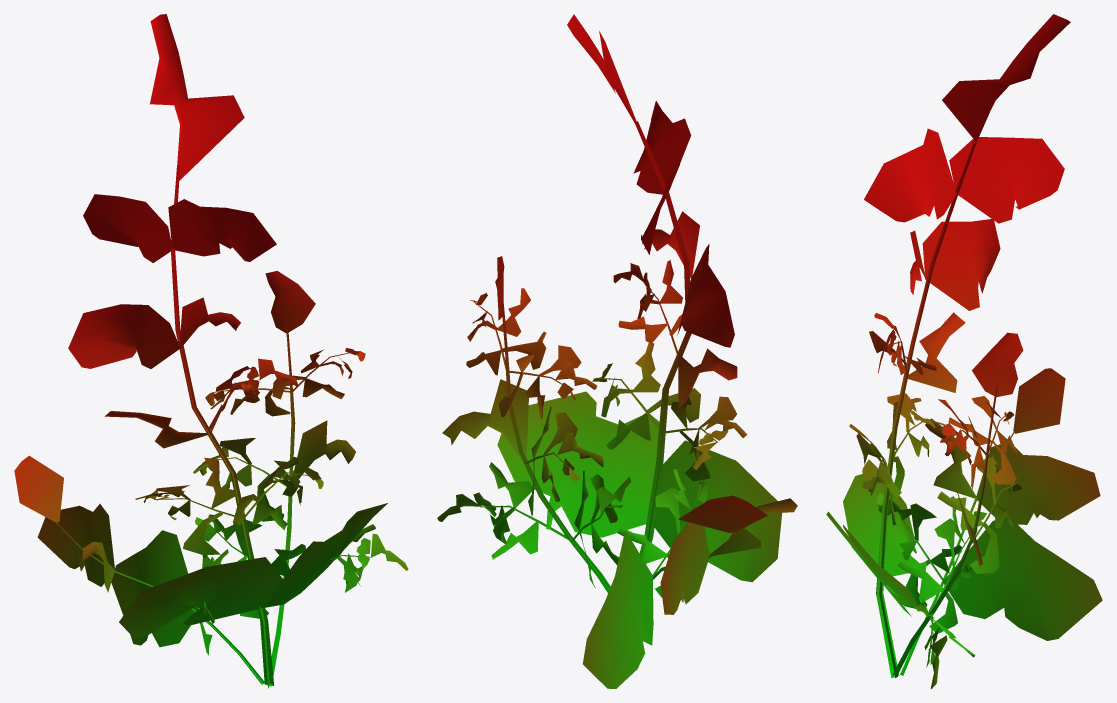
File: White Ramping Fumitory_LOD1_Var4_ti4efc3ia.fbx
The picture shows the model from 3 angles, left to right: view 1: azimuth 30°, elevation 25°; view 2: azimuth 150°, elevation 25°; view 3: azimuth 270°, elevation 25°; orthographic projection. The views are drawn at different scales.
Parts seen in each view (by area): view 1: _6f49_Var4_LOD1; view 2: _6f49_Var4_LOD1; view 3: _6f49_Var4_LOD1.
Part boxes in pixels (bbox=[...]): _6f49_Var4_LOD1: bbox=[14, 14, 408, 688]; _6f49_Var4_LOD1: bbox=[437, 14, 797, 688]; _6f49_Var4_LOD1: bbox=[826, 14, 1102, 688].
Size of the model in its own units: 28.89 by 49.63 by 19.12.
